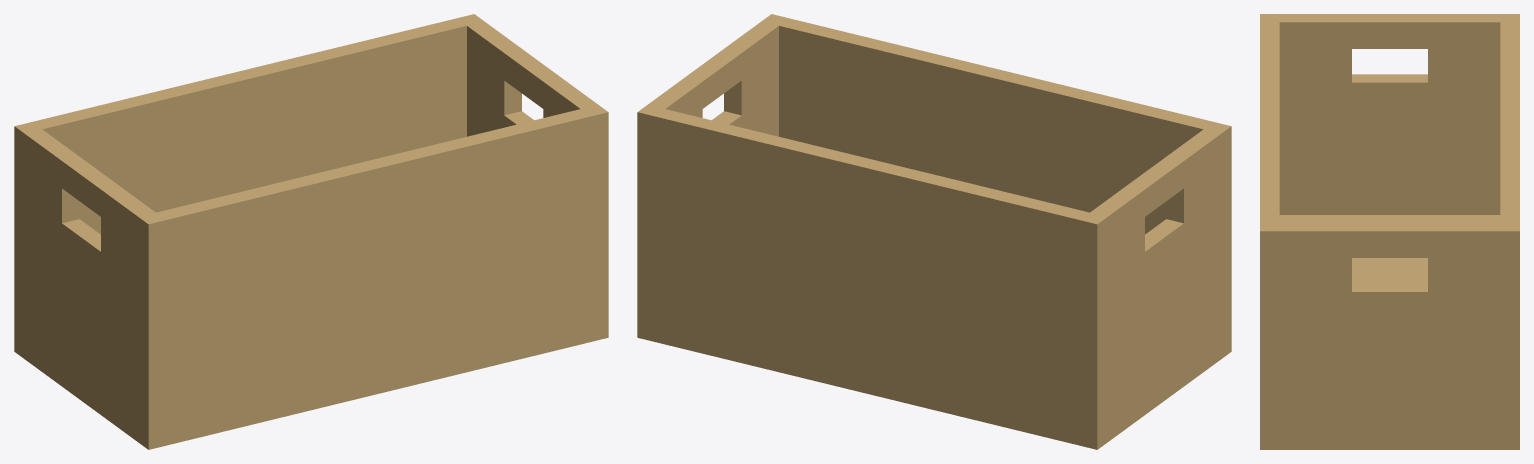
The picture shows the model from 3 angles, left to right: view 1: azimuth 30°, elevation 25°; view 2: azimuth 150°, elevation 25°; view 3: azimuth 270°, elevation 25°; orthographic projection. The views are drawn at different scales.
Visible parts, largest first — view 1: Box_1_1; view 2: Box_1_1; view 3: Box_1_1.
Part boxes in pixels (<box>): Box_1_1: <box>14,14,608,449</box>; Box_1_1: <box>637,14,1231,449</box>; Box_1_1: <box>1260,14,1519,449</box>.
Bounding box in the file's own units: 52.93 × 24.81 × 26.73.
